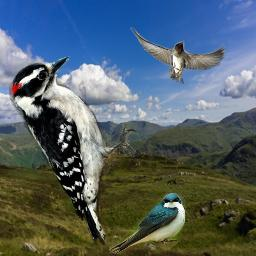Swallow: (130, 27, 227, 85), (109, 193, 186, 254)
Woodpecker: (9, 56, 146, 245)
